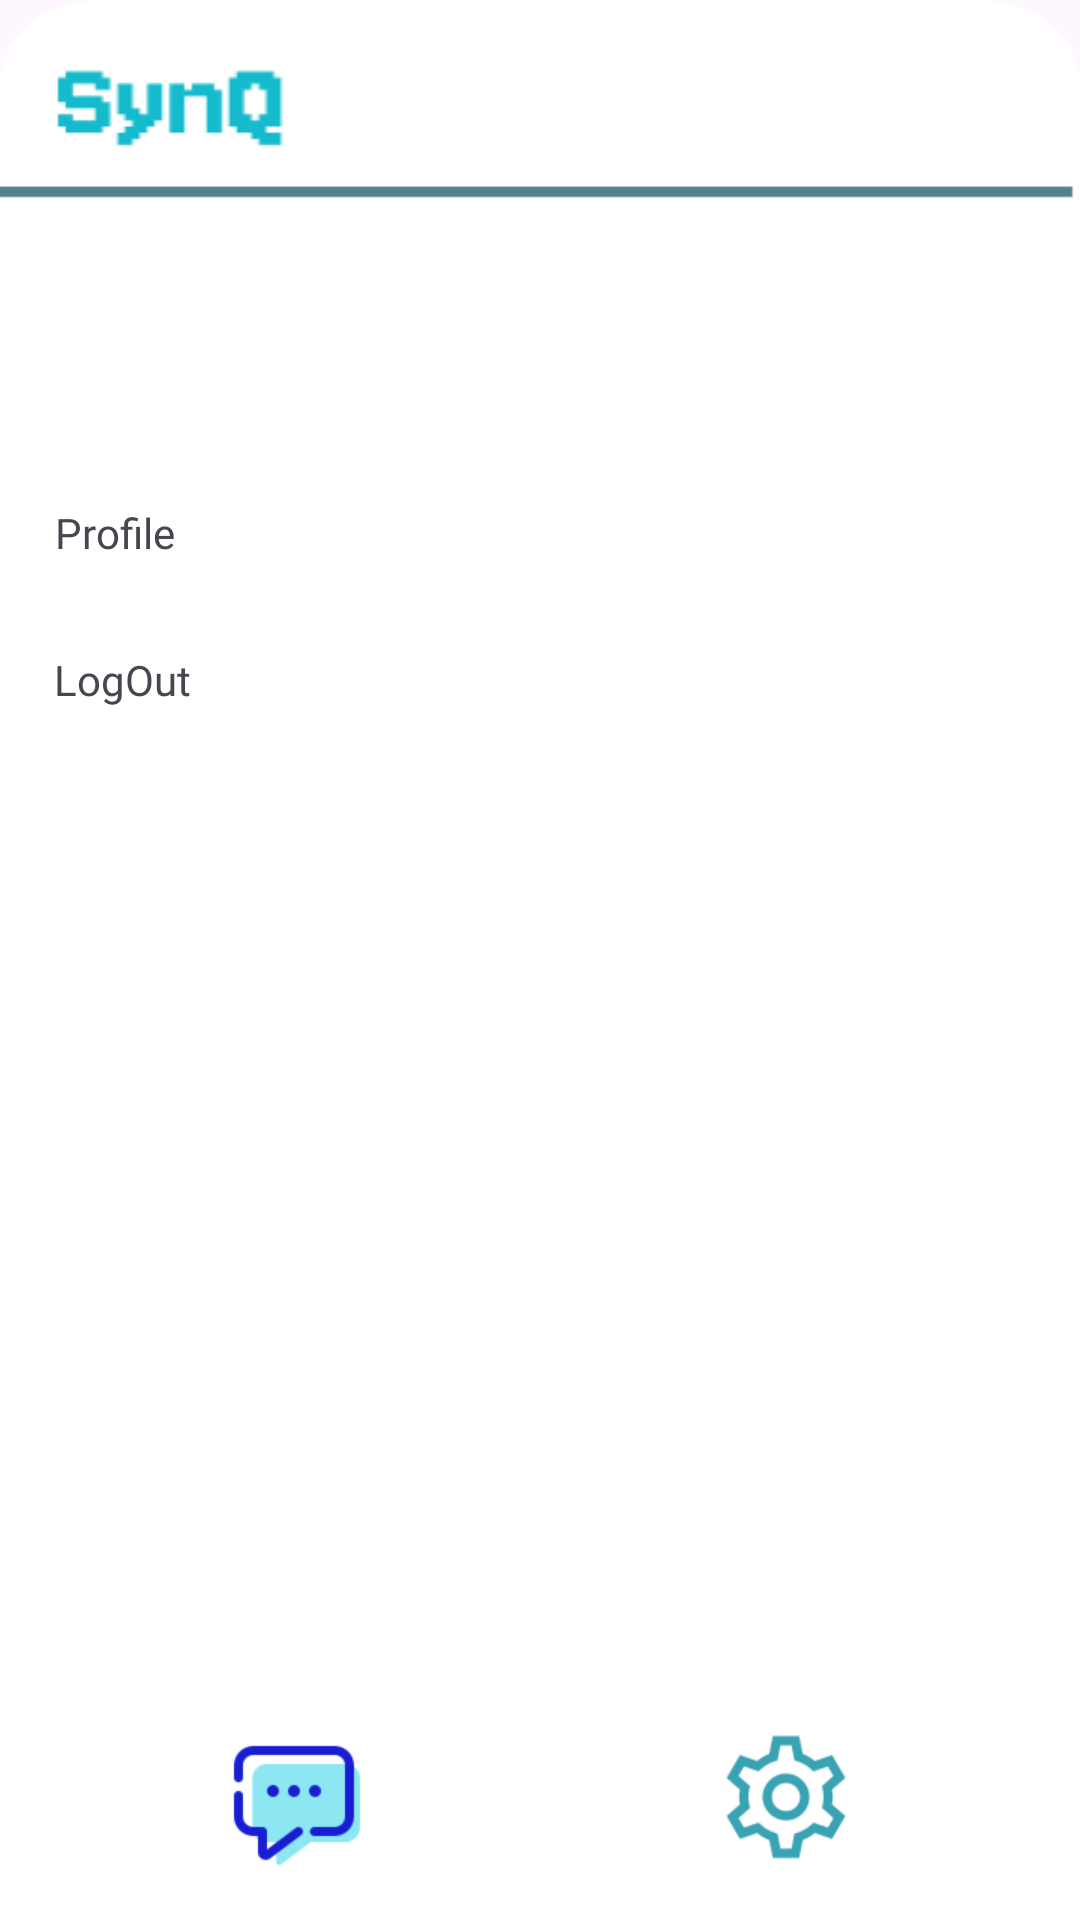

Screen size 1080 x 1920. Icon name, then its center in pixels as (x,y):
Message: (296,1805)
Settings: (786,1797)
